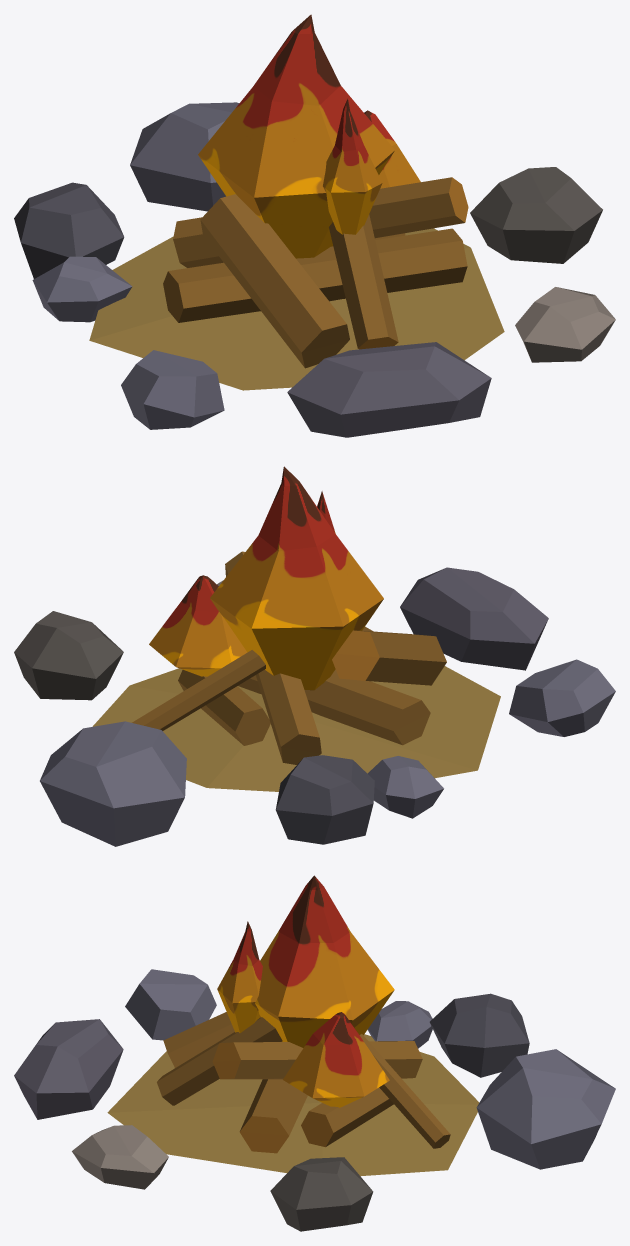
The model's file is CampfireWithStones.fbx.
3 renders of one model, top to bottom at view 1: azimuth 30°, elevation 25°; view 2: azimuth 150°, elevation 25°; view 3: azimuth 270°, elevation 25°, orthographic. The views are drawn at different scales.
Parts seen in each view (by area): view 1: CampfireWithStones; view 2: CampfireWithStones; view 3: CampfireWithStones.
Boxes of the visible parts, box(x1,y1,x2,y2) form: CampfireWithStones: box(14, 14, 615, 437); CampfireWithStones: box(14, 466, 615, 846); CampfireWithStones: box(14, 875, 615, 1231).
Size of the model in its own units: 110 by 57.79 by 123.
